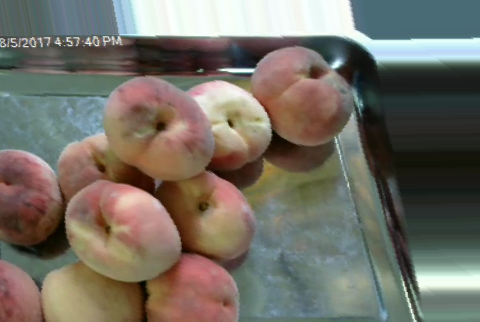Peach: (64, 180, 183, 280), (105, 72, 213, 180), (250, 44, 355, 144), (153, 168, 255, 260), (183, 80, 272, 168), (144, 251, 239, 322), (42, 258, 145, 321), (0, 146, 61, 246)
